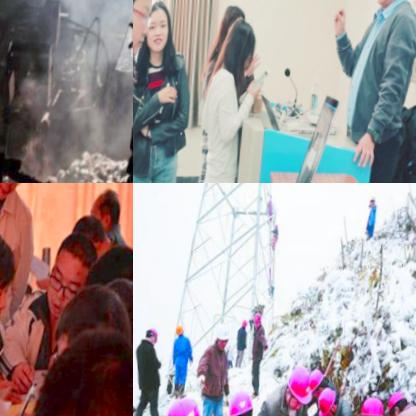head: (36, 329, 133, 416), (58, 286, 132, 374), (44, 230, 96, 326), (88, 238, 133, 314), (97, 269, 133, 349), (222, 16, 260, 82), (214, 1, 249, 62), (87, 183, 123, 240), (140, 0, 174, 58), (0, 231, 17, 333), (133, 0, 156, 69), (72, 212, 107, 257)
helmet: (285, 365, 313, 416), (161, 393, 207, 416), (224, 388, 257, 416), (386, 388, 416, 416), (305, 370, 332, 401), (358, 395, 387, 416), (318, 391, 342, 416), (213, 323, 231, 353), (142, 325, 163, 347), (174, 325, 190, 343), (254, 312, 265, 331)
